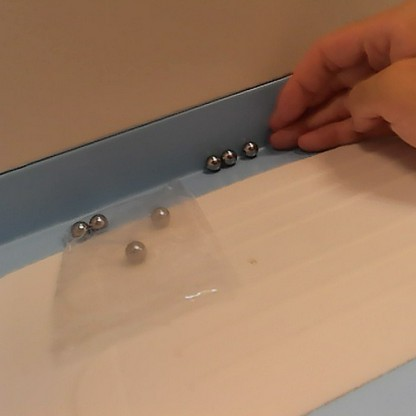ironball: (119, 237, 150, 266), (144, 202, 175, 230), (66, 220, 91, 245), (88, 212, 112, 233), (202, 154, 222, 174), (241, 138, 258, 159), (221, 146, 237, 167)
